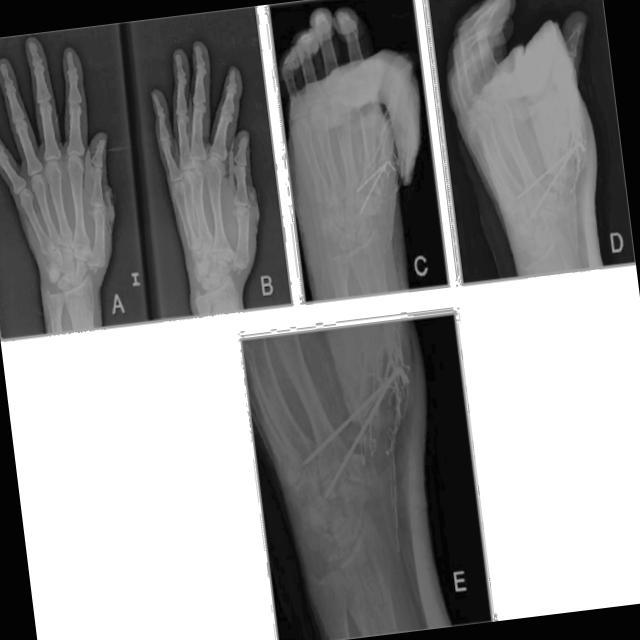Fracture Dislocation: (80, 250, 109, 287), (225, 250, 253, 281)
